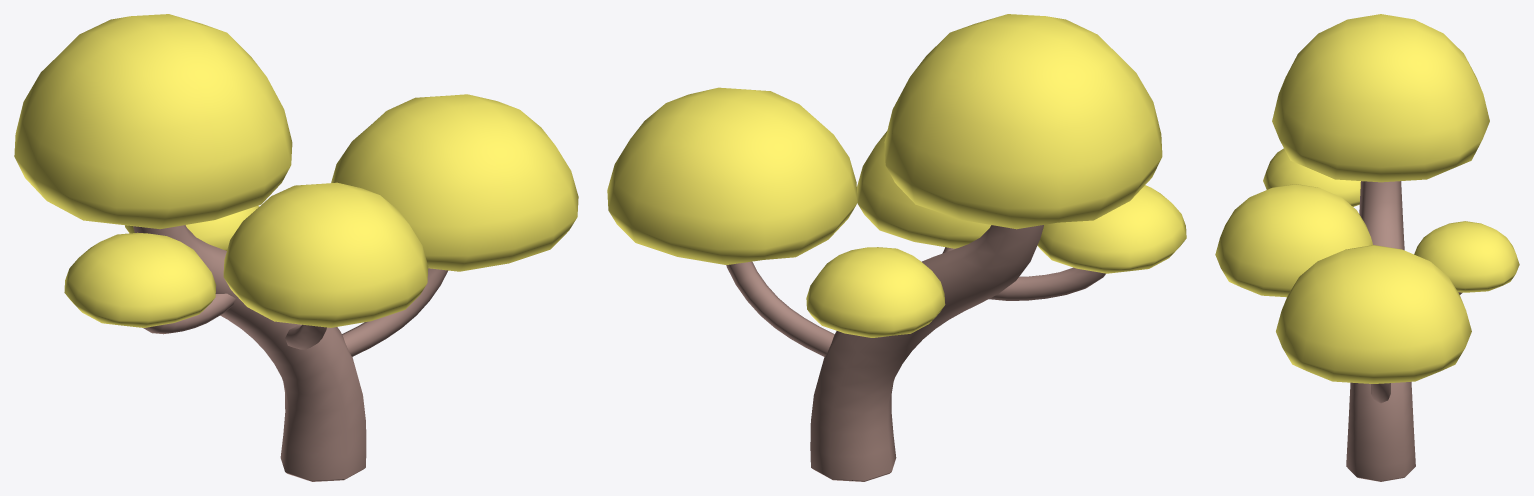
Rendered from Farm_10_Tree_1.glb.
3 views of the same model, side by side, from view 1: azimuth 30°, elevation 25°; view 2: azimuth 150°, elevation 25°; view 3: azimuth 270°, elevation 25° (orthographic). The views are drawn at different scales.
Visible parts, largest first — view 1: Farm_10_Tree_1; view 2: Farm_10_Tree_1; view 3: Farm_10_Tree_1.
Part boxes in pixels (bbox=[...]): Farm_10_Tree_1: bbox=[14, 14, 578, 481]; Farm_10_Tree_1: bbox=[607, 14, 1186, 481]; Farm_10_Tree_1: bbox=[1215, 14, 1519, 481].
Size of the model in its own units: 9.42 by 8.26 by 6.02.
1 material, 1 textured.
